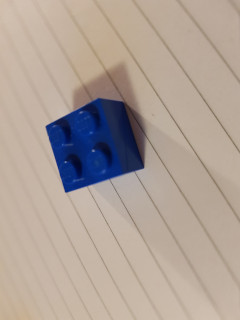2x2 blue: (44, 96, 146, 195)
